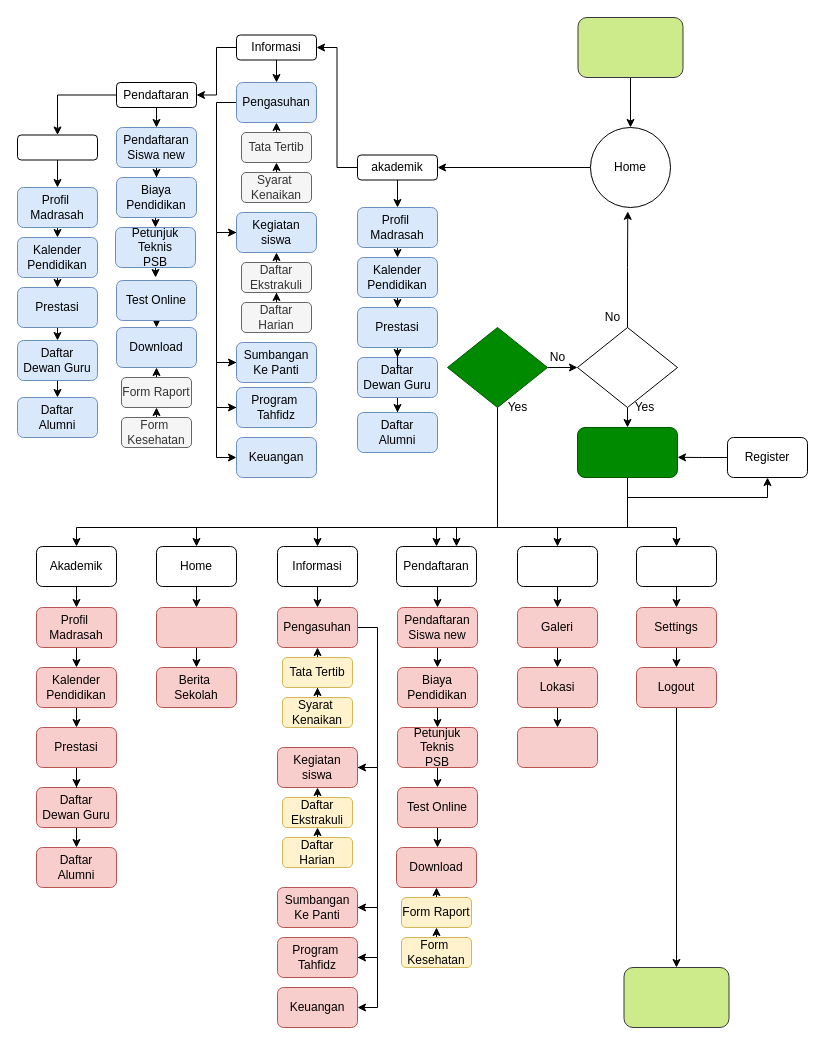
Image size: 825x1045. Some labels were removed from this diagram. The shapes that lost their labels are listed below. From the top down, each one's box as (x1, y1, x2, y2) in pixels, then its label:
(577, 16, 683, 78): START
(16, 134, 98, 160): Galeri&Lokasi
(446, 326, 548, 408): Already Login?
(576, 326, 678, 408): Have an Account?
(576, 426, 678, 478): Login
(516, 546, 598, 586): Galeri & Lokasi
(636, 546, 716, 586): Profil
(156, 606, 236, 648): Artikel Islam
(516, 726, 598, 768): Contact
(623, 966, 729, 1028): End
